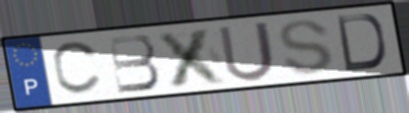B: (105, 32, 164, 95)
C: (50, 38, 104, 97)
D: (334, 12, 389, 74)
S: (276, 18, 336, 77)
U: (215, 19, 278, 84)
X: (154, 25, 231, 90)
